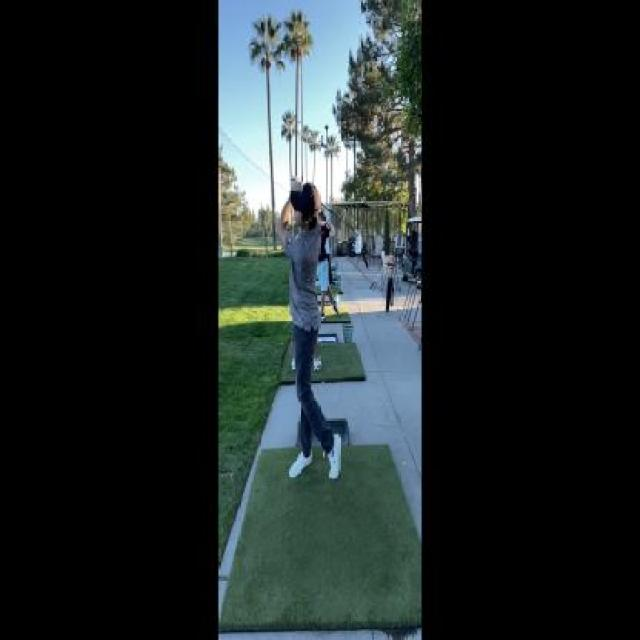club head: (351, 228, 364, 257)
